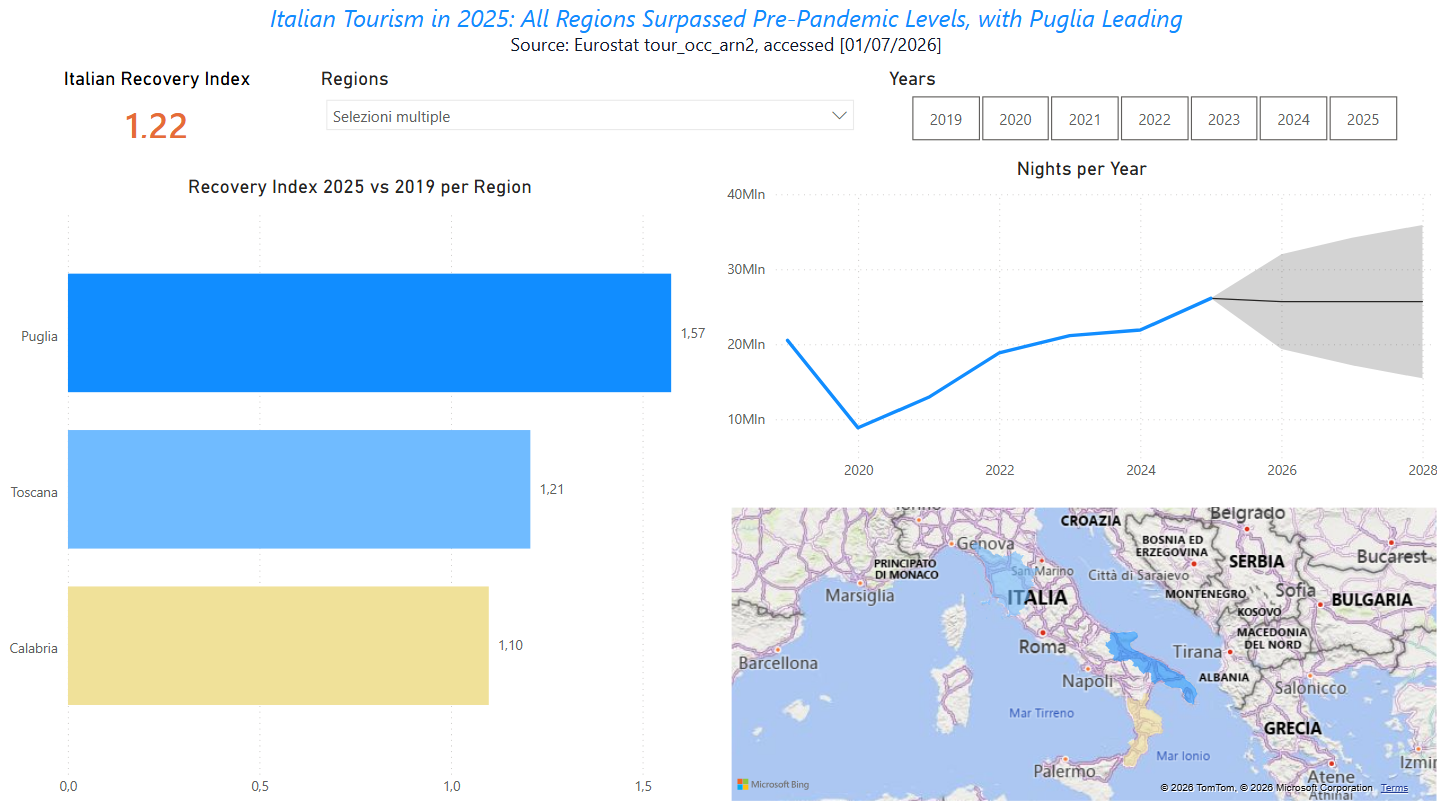

The page's visual inventory and layout, read from the dashboard file:
{"tool":"powerbi","page":{"name":"Main","canvas":[1280,720],"ordinal":0},"visuals":[{"type":"textbox","box":[9.8,0,1270.2,84.5],"z":0},{"type":"clusteredBarChart","title":"Recovery Index 2025 vs 2019 per Region","fields":{"Category":["fct_yearly_nights.region_name"],"Y":["fct_yearly_nights.Recovery_Index"]},"box":[0,159.5,640,560.2],"z":1000},{"type":"lineChart","title":"Nights per Year","fields":{"Category":["fct_yearly_nights.year"],"Y":["Sum(fct_yearly_nights.nights)"]},"box":[640,144,640,295.7],"z":2000},{"type":"filledMap","fields":{"Category":["dim_region.region_name"]},"box":[644.9,449.4,635.1,270.4],"z":3000},{"type":"slicer","title":"Regions","fields":{"Values":["dim_region.region_name"]},"box":[280.2,63.8,487.7,80.7],"z":4000},{"type":"slicer","title":"Years","fields":{"Values":["fct_yearly_nights.year"]},"box":[783.8,63.8,479.7,71.8],"z":5000},{"type":"cardVisual","title":"Italian Recovery Index","fields":{"Data":["fct_yearly_nights.Italy Recovery Index (Fixed)"]},"box":[0,63.8,280.2,80.7],"z":6000}]}

Visuals, with their boxes in screenshot pixels (x1, y1, x2, y2), scaled from the page's 1280x720 canvas onto the 1440x805 screenshot:
textbox: 11/0/1439/94
"Recovery Index 2025 vs 2019 per Region" clusteredBarChart: 0/178/720/804
"Nights per Year" lineChart: 720/161/1439/492
filledMap - dim_region.region_name: 726/502/1439/804
"Regions" slicer: 315/71/864/162
"Years" slicer: 882/71/1421/152
"Italian Recovery Index" cardVisual: 0/71/315/162
